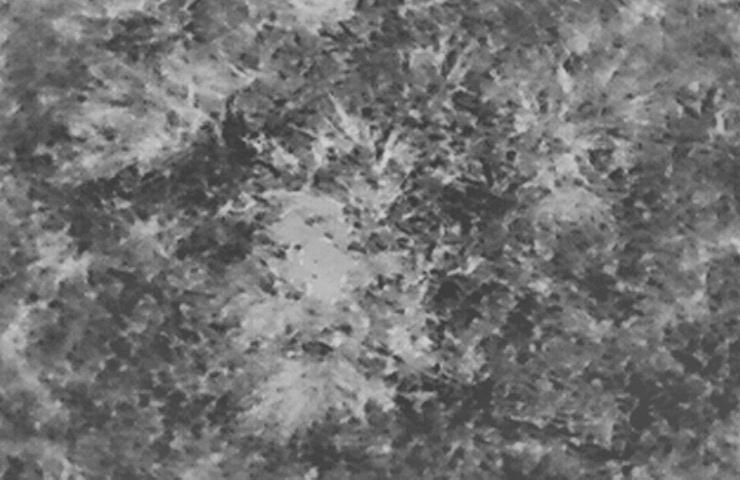landmines: (281, 233, 361, 305)
